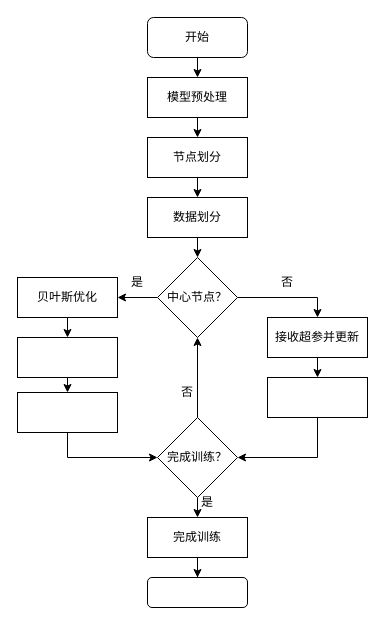
The diagram is 385 pixels wide and 625 high, and some of its shapes have lost their labels. Each missing label, with the box of its shape:
更新超参并传递: (16, 336, 118, 378)
汇总梯度并更新参数: (16, 392, 118, 432)
结束: (146, 576, 248, 608)
计算并发送梯度: (266, 376, 368, 418)
